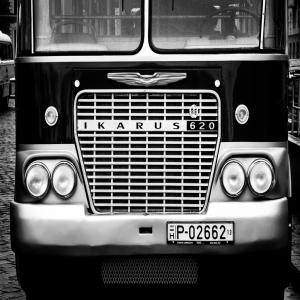Vehicle-registration-plate: (163, 220, 246, 252)
